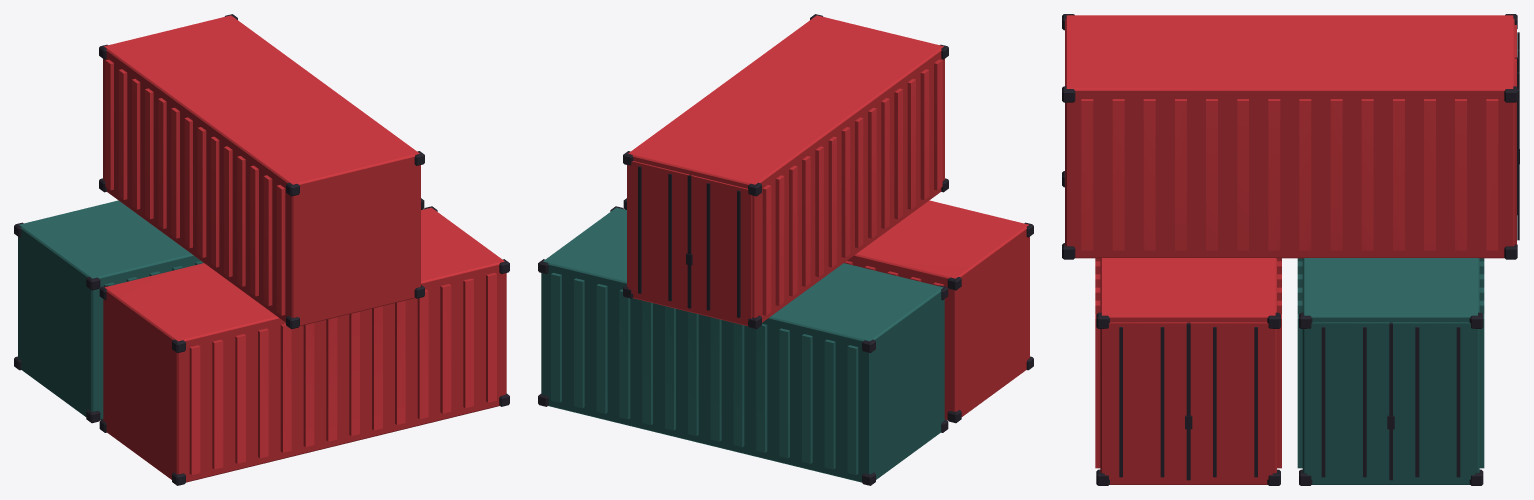
File: prop.cure-container-stack.glb
3 renders of one model, left to right at view 1: azimuth 30°, elevation 25°; view 2: azimuth 150°, elevation 25°; view 3: azimuth 270°, elevation 25°, orthographic. The views are drawn at different scales.
Visible parts, largest first — view 1: body; view 2: body; view 3: body.
Boxes of the visible parts, bbox=[...] form: body: bbox=[14, 14, 509, 485]; body: bbox=[538, 14, 1033, 485]; body: bbox=[1062, 14, 1519, 485].
Bounding box in the file's own units: 6.11 × 4.99 × 6.11.
